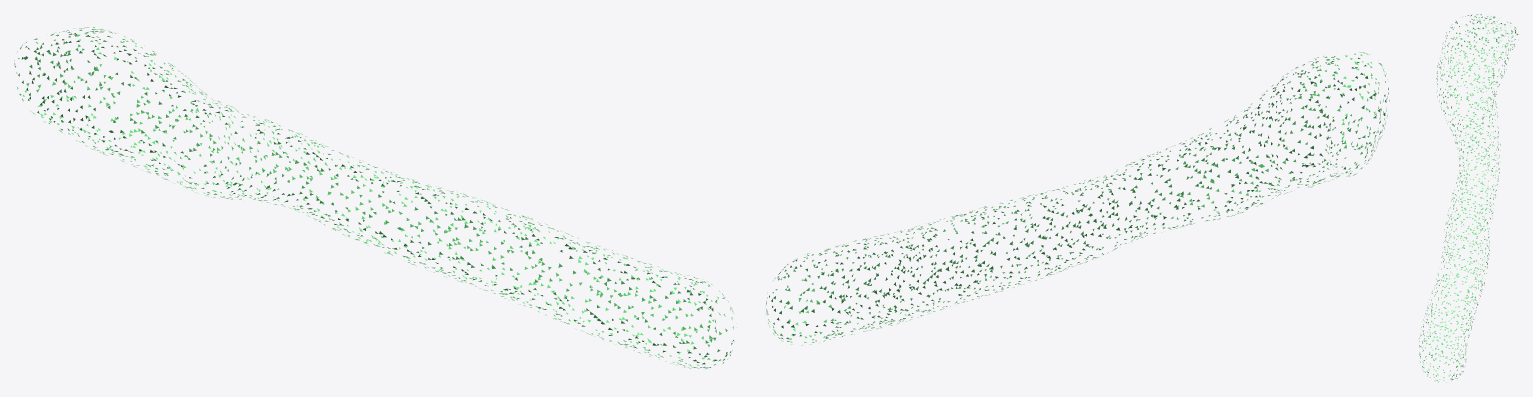
File: morph_019.glb
The picture shows the model from 3 angles, left to right: view 1: azimuth 30°, elevation 25°; view 2: azimuth 150°, elevation 25°; view 3: azimuth 270°, elevation 25°; orthographic projection. The views are drawn at different scales.
Size of the model in its own units: 128 by 85.21 by 34.62.
